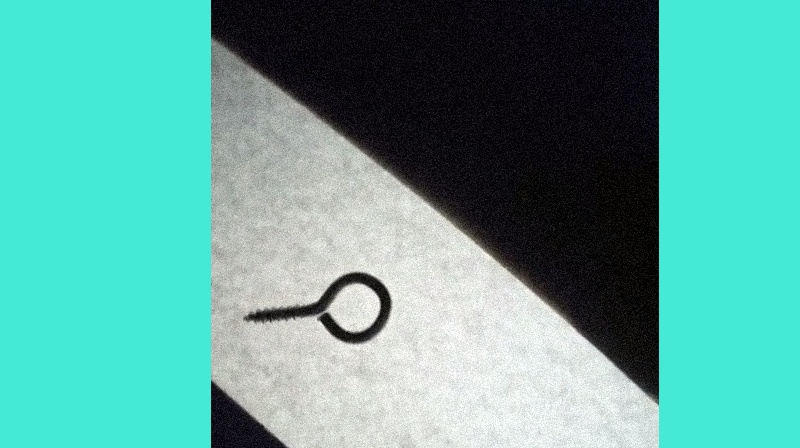O001: (241, 269, 394, 351)
